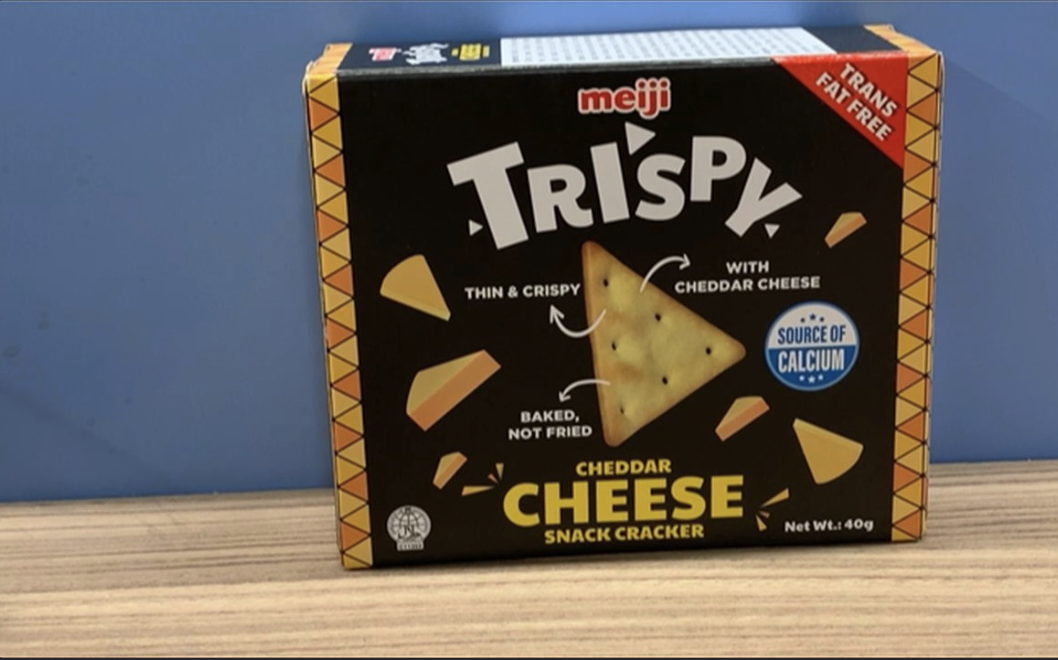crackers_50g: (361, 86, 906, 542)
